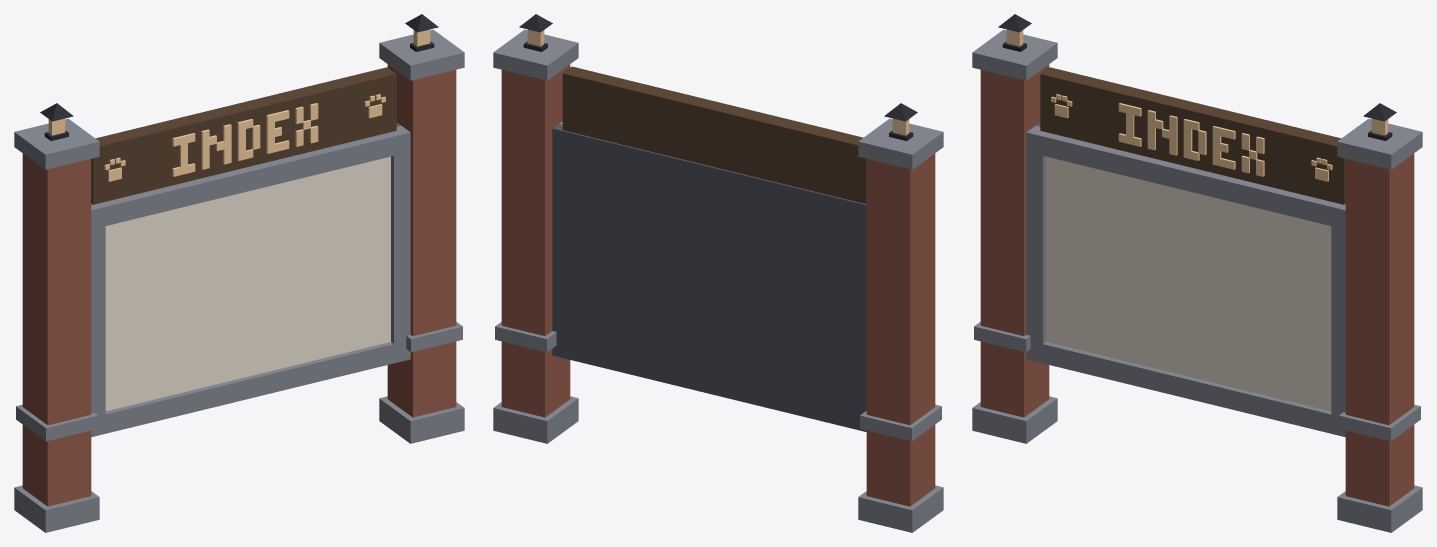
File: CatCafe_Alley_IndexBoard.glb
3 renders of one model, left to right at view 1: azimuth 30°, elevation 25°; view 2: azimuth 150°, elevation 25°; view 3: azimuth 330°, elevation 25°, orthographic.
Parts seen in each view (by area): view 1: CatCafe_Alley_IndexBoard, CatCafe_Alley_IndexBoard_Screen; view 2: CatCafe_Alley_IndexBoard; view 3: CatCafe_Alley_IndexBoard, CatCafe_Alley_IndexBoard_Screen.
Part boxes in pixels (x1,y1,x2,y2): CatCafe_Alley_IndexBoard: (14,14,464,532); CatCafe_Alley_IndexBoard_Screen: (105,156,390,411); CatCafe_Alley_IndexBoard: (493,14,943,532); CatCafe_Alley_IndexBoard: (972,14,1422,532); CatCafe_Alley_IndexBoard_Screen: (1046,156,1331,411).
Size of the model in its own units: 11.6 by 10.89 by 1.5.
Materials: 1 (1 with a texture image).
